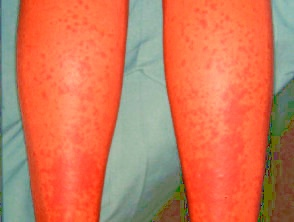SJS-TEN: (172, 0, 276, 222), (28, 0, 115, 221)
